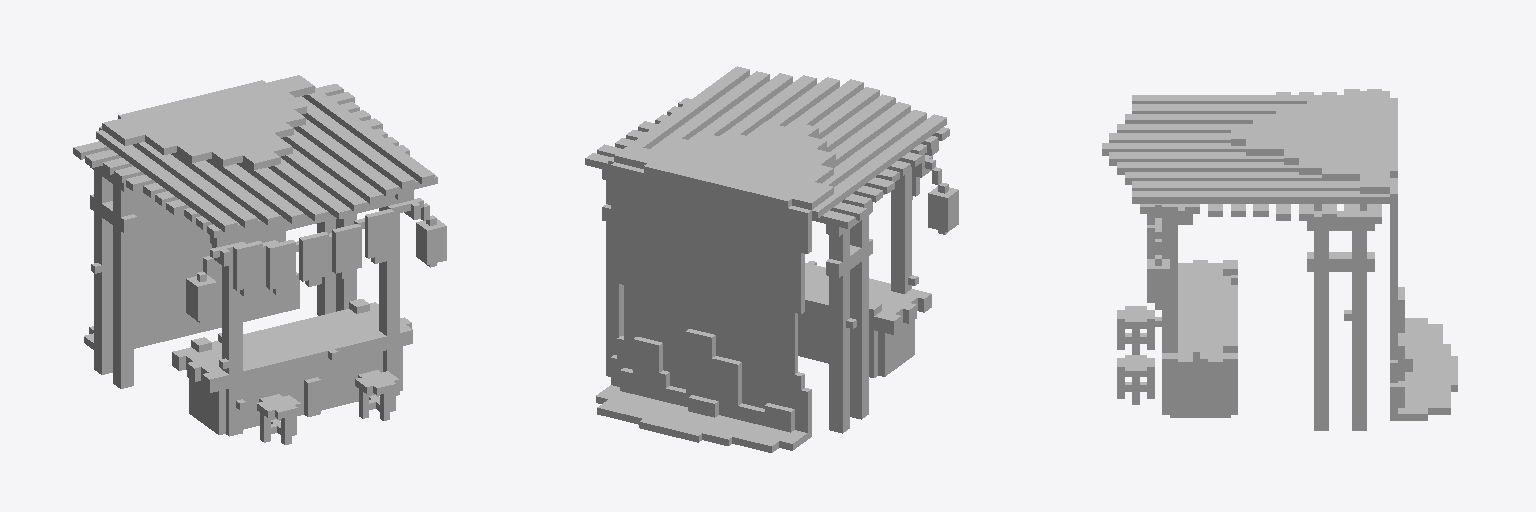
Rendered from stallRedYellow-0.obj.
3 views of the same model, side by side, from view 1: azimuth 30°, elevation 25°; view 2: azimuth 150°, elevation 25°; view 3: azimuth 270°, elevation 25° (orthographic).
Visible parts, largest first — view 1: object 1; view 2: object 1; view 3: object 1.
Boxes of the visible parts, <box> form: object 1: <box>73,75,446,444</box>; object 1: <box>585,66,958,452</box>; object 1: <box>1102,89,1457,430</box>.
Bounding box in the file's own units: 4 × 3.4 × 4.7.